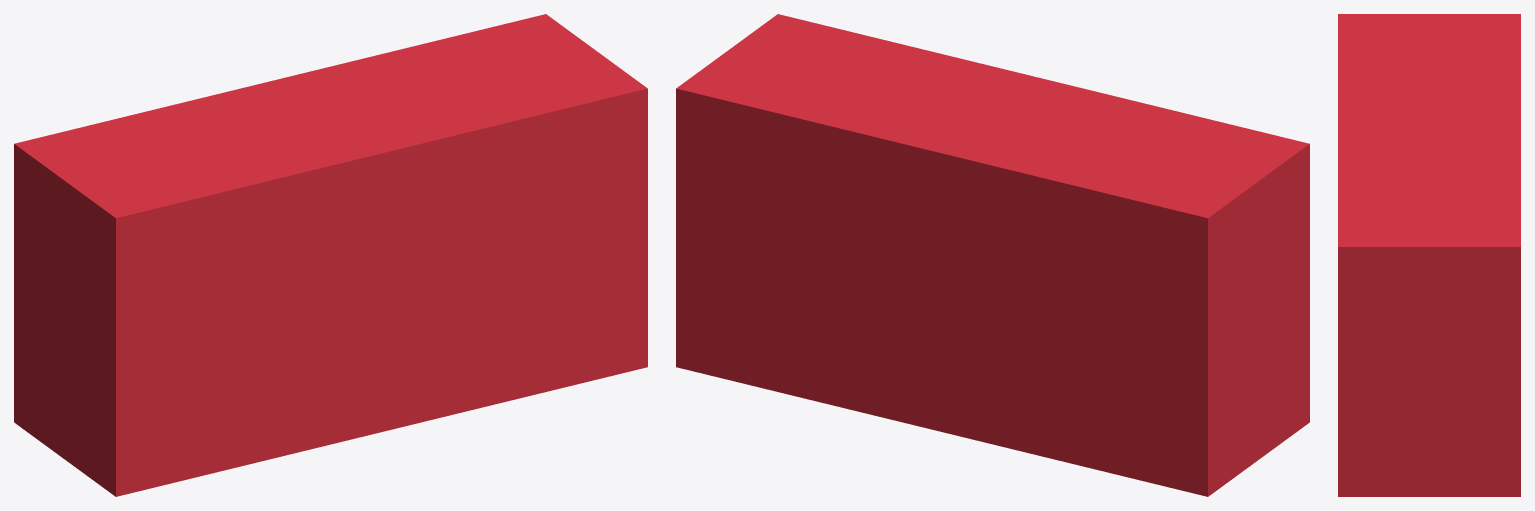
The model's file is machine_button_v2.gltf.
3 views of the same model, side by side, from view 1: azimuth 30°, elevation 25°; view 2: azimuth 150°, elevation 25°; view 3: azimuth 270°, elevation 25° (orthographic). The views are drawn at different scales.
Parts seen in each view (by area): view 1: button; view 2: button; view 3: button.
Part boxes in pixels (<box>): button: <box>14,14,647,496</box>; button: <box>676,14,1309,496</box>; button: <box>1338,14,1520,496</box>.
Bounding box in the file's own units: 0.6059 × 0.3033 × 0.2009.
Materials: 1 (1 with a texture image).
